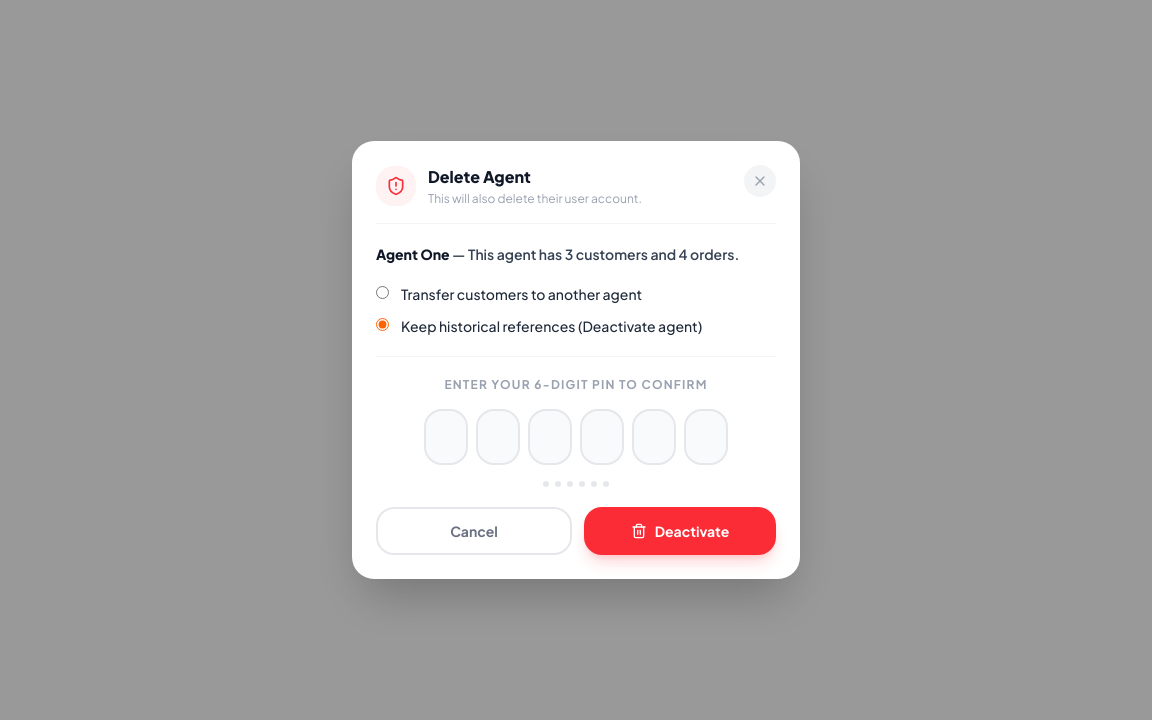
Scenario: DeleteWithTransferDialog PIN flow › blocks submit and shows the incomplete-PIN message when under 6 digits
Expected: the text "Enter your 6-digit PIN to confirm" is shown, [444, 377, 708, 392]
Type "1" into the 1st password field.
click(446, 437); type("1")  # box [424, 409, 468, 465]
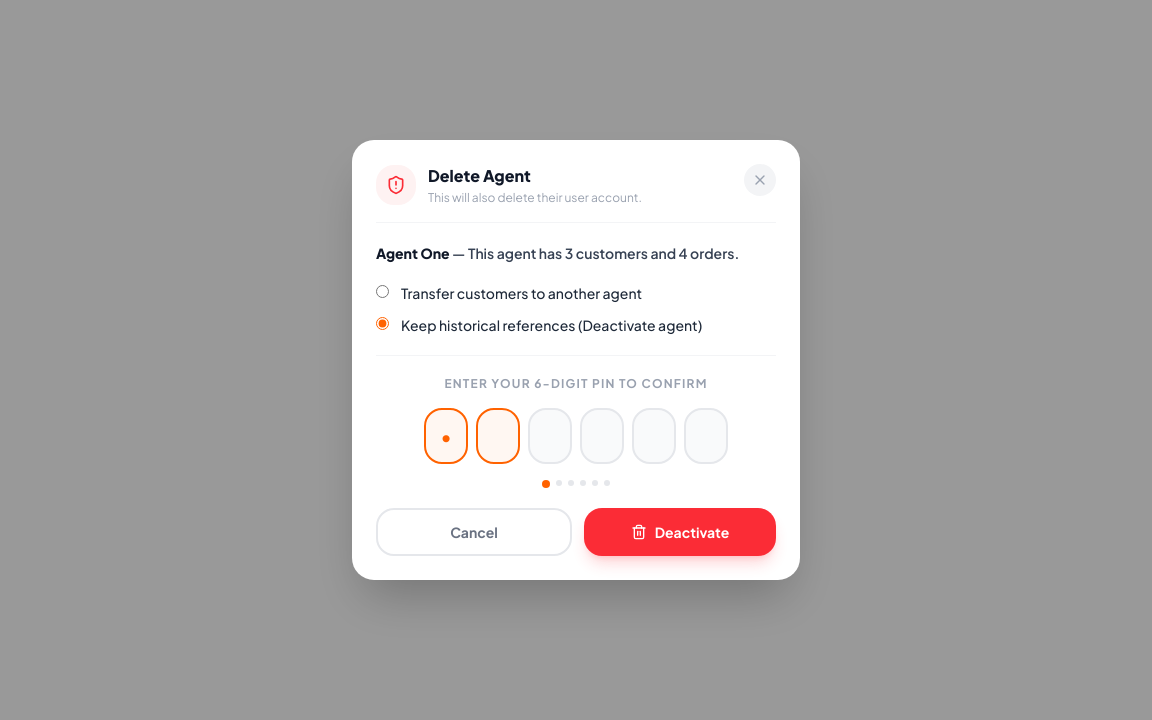
Click the button "Deactivate".
click(680, 532)  # box [584, 508, 776, 556]
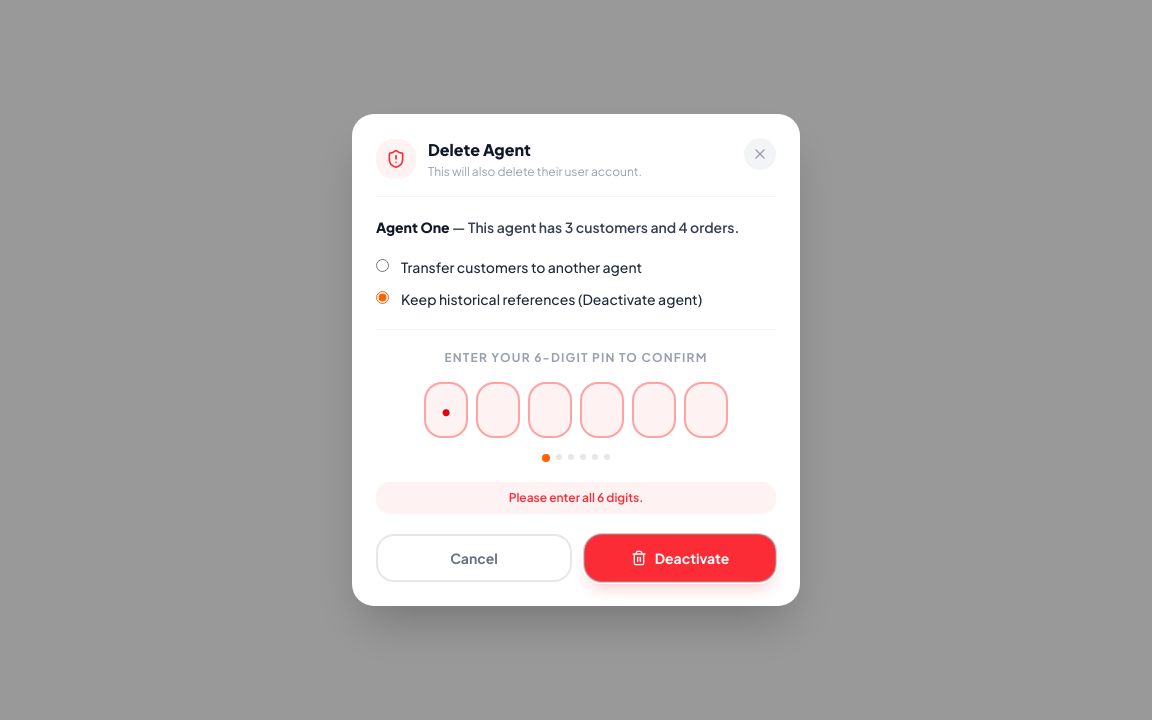
Result: the text "Please enter all 6 digits." is shown at [376, 482, 776, 514]
